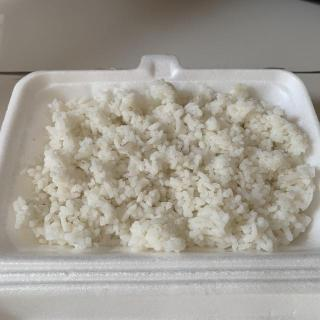Nasi: (14, 83, 320, 257)
